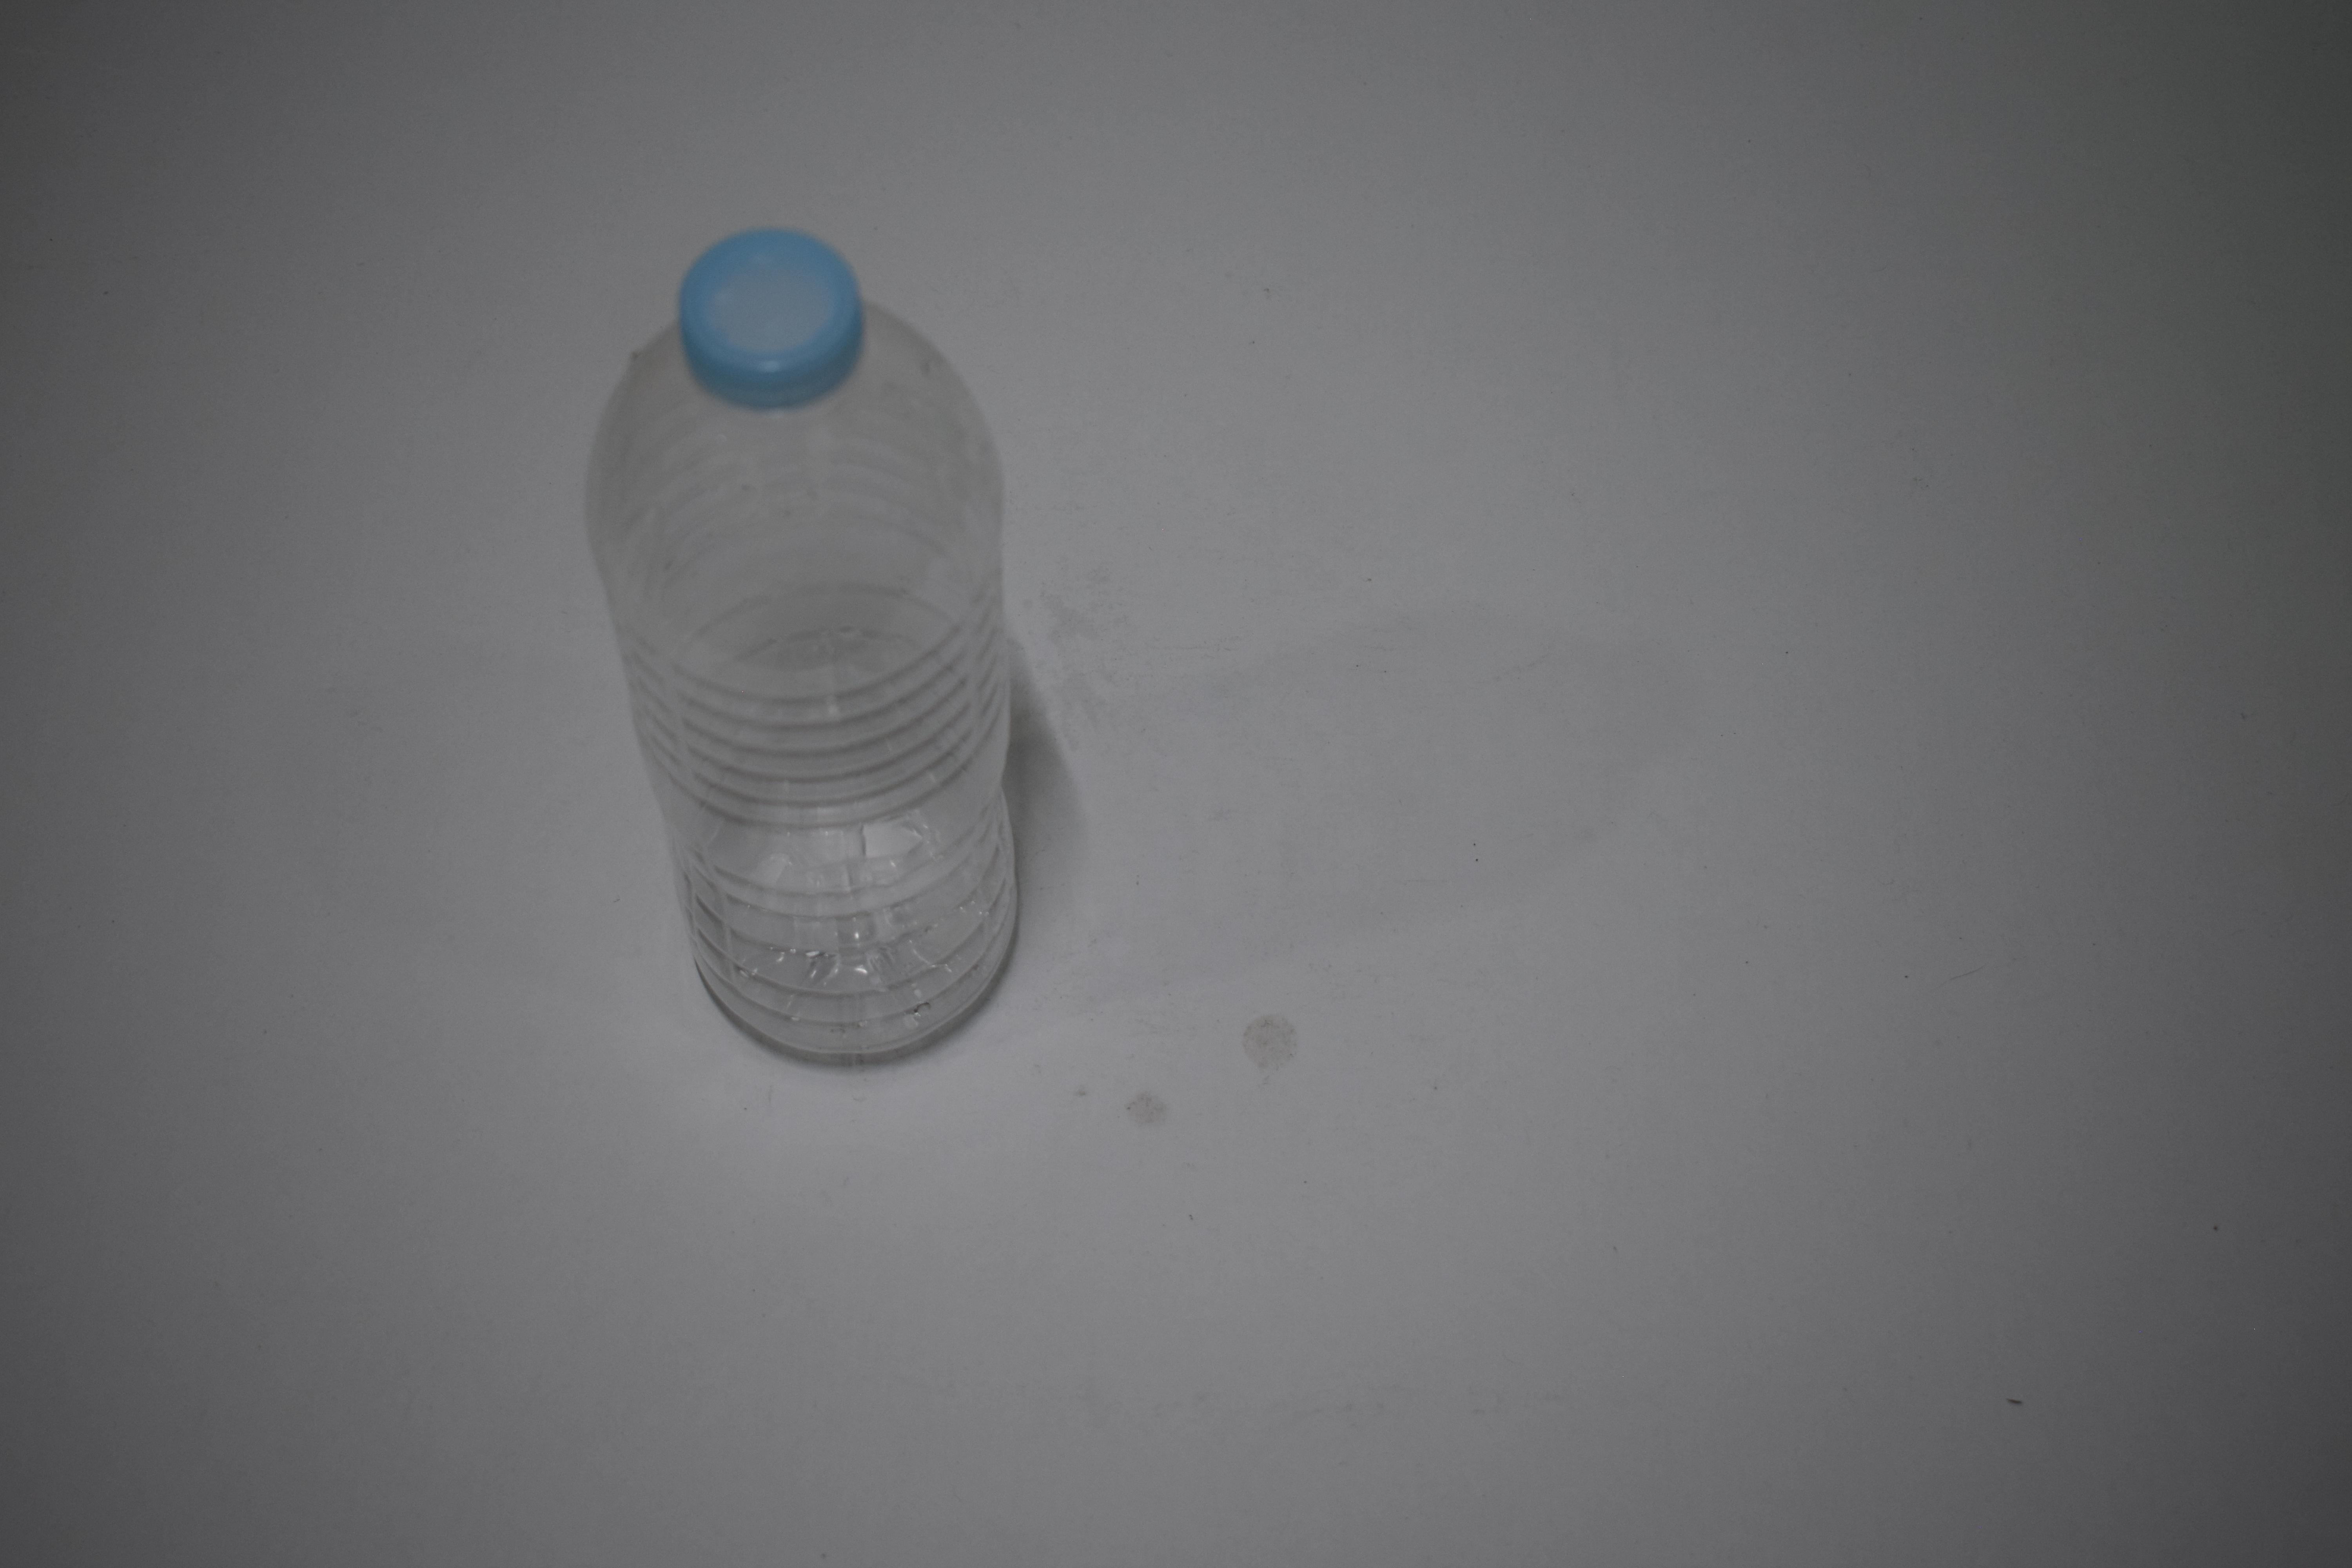bottle: (576, 611, 1031, 674)
